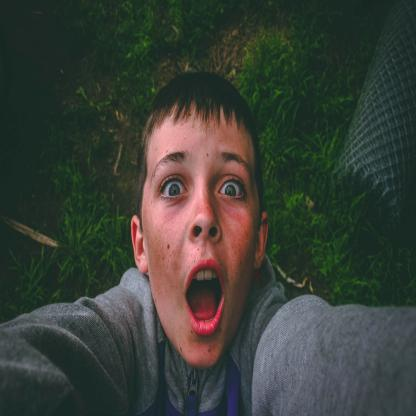Eye: (216, 168, 250, 206), (159, 171, 191, 203)
Mouth: (182, 254, 228, 334)
Nose: (188, 185, 221, 246)
